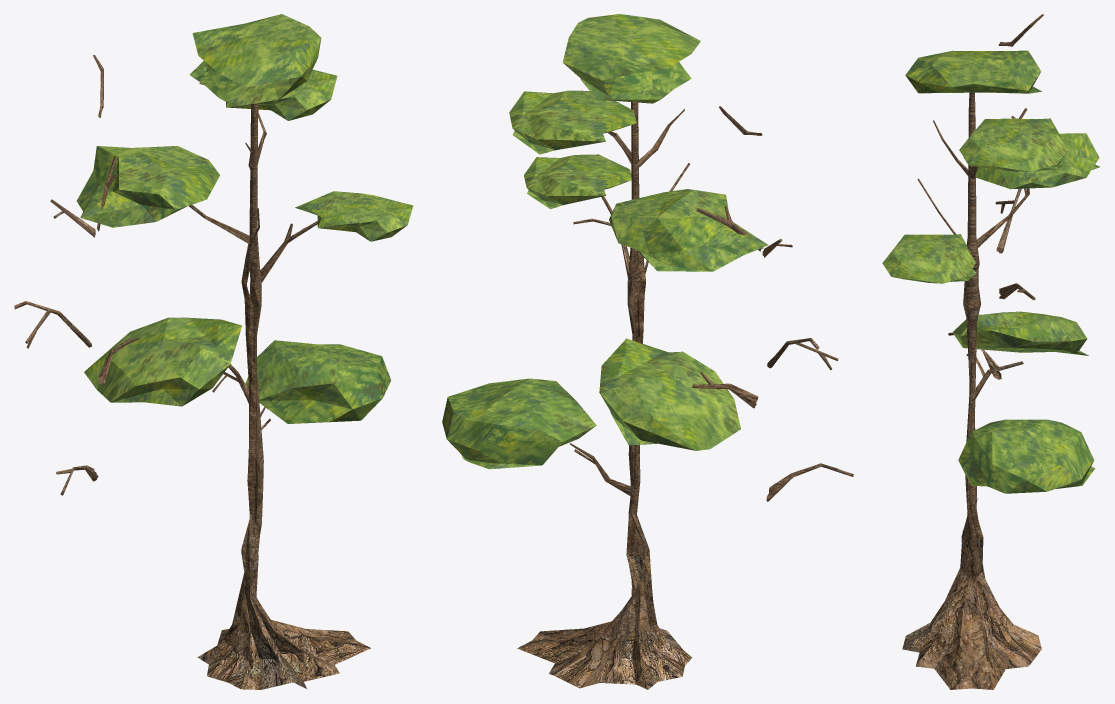
File: CPtree2_v1-alpha.glb
3 views of the same model, side by side, from view 1: azimuth 30°, elevation 25°; view 2: azimuth 150°, elevation 25°; view 3: azimuth 270°, elevation 25° (orthographic). The views are drawn at different scales.
Parts seen in each view (by area): view 1: trunk2, foliage1.003, foliage1, foliage1.002, foliage1.001, foliage1.004, foliage1.005; view 2: trunk2, foliage1.003, foliage1, foliage1.002, foliage1.001, foliage1.005, foliage1.004; view 3: trunk2, foliage1, foliage1.002, foliage1.005, foliage1.003, foliage1.004, foliage1.001, Cylinder.000.
Boxes of the visible parts, x1=… form: trunk2: x1=197, y1=103, x2=370, y2=689; foliage1.003: x1=84, y1=317, x2=241, y2=406; foliage1: x1=245, y1=340, x2=391, y2=423; foliage1.002: x1=189, y1=14, x2=321, y2=106; foliage1.001: x1=76, y1=146, x2=219, y2=227; foliage1.004: x1=295, y1=191, x2=413, y2=241; foliage1.005: x1=199, y1=69, x2=337, y2=120; trunk2: x1=517, y1=102, x2=692, y2=689; foliage1.003: x1=599, y1=338, x2=740, y2=450; foliage1: x1=442, y1=378, x2=596, y2=469; foliage1.002: x1=562, y1=14, x2=700, y2=103; foliage1.001: x1=609, y1=189, x2=768, y2=271; foliage1.005: x1=509, y1=90, x2=636, y2=154; foliage1.004: x1=524, y1=154, x2=631, y2=209; trunk2: x1=902, y1=92, x2=1041, y2=689; foliage1: x1=958, y1=419, x2=1095, y2=493; foliage1.002: x1=905, y1=50, x2=1041, y2=93; foliage1.005: x1=959, y1=118, x2=1068, y2=171; foliage1.003: x1=952, y1=311, x2=1088, y2=355; foliage1.004: x1=882, y1=234, x2=976, y2=283; foliage1.001: x1=963, y1=133, x2=1099, y2=189; Cylinder.000: x1=976, y1=188, x2=1029, y2=247.
Size of what is drawn, in the model's own units: 51.47 by 82.9 by 28.02.
2 materials, 2 textured.
